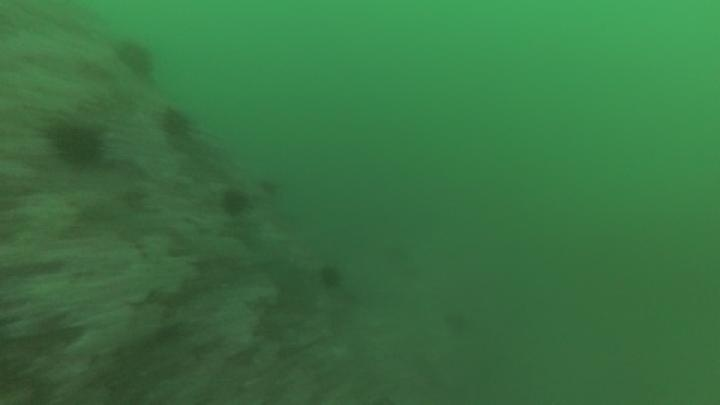echinus: (49, 119, 107, 170), (113, 37, 157, 81), (157, 104, 196, 143), (218, 186, 252, 219), (440, 307, 473, 339), (316, 262, 345, 291), (257, 175, 282, 198)
